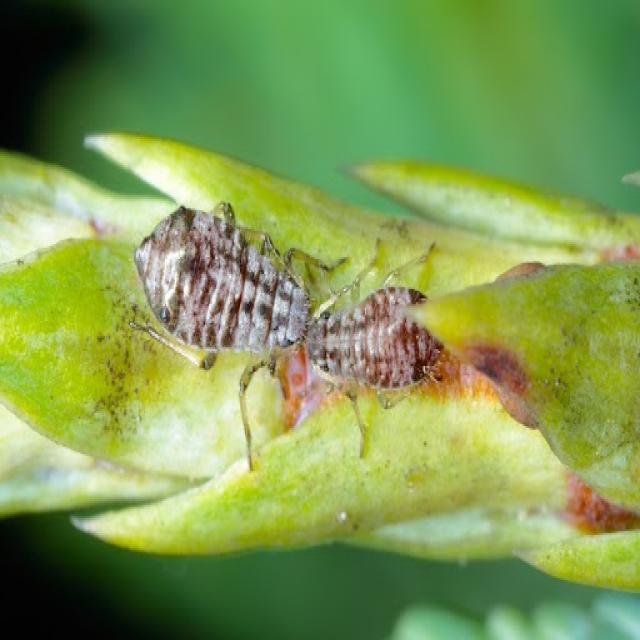Aphid-Grown-: (129, 192, 328, 374), (296, 273, 440, 412)
